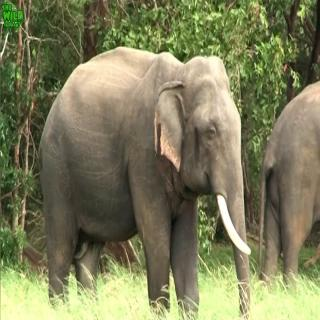Elephant: (35, 46, 256, 320)
